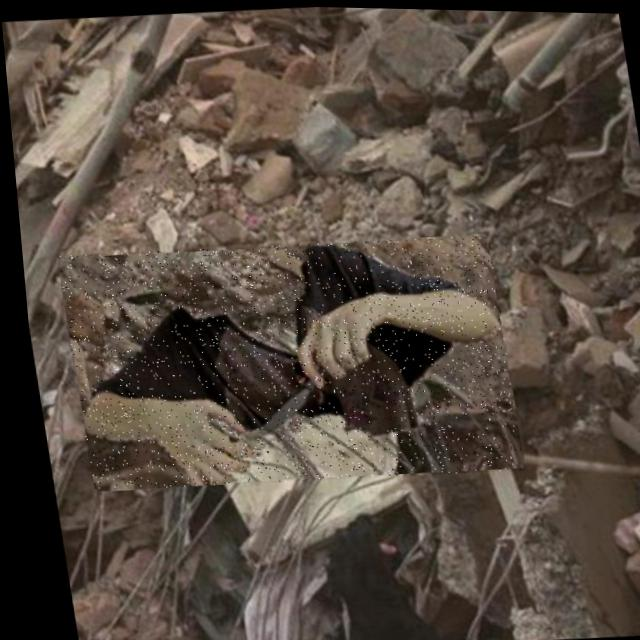Person in Rubble: (50, 225, 518, 498)
